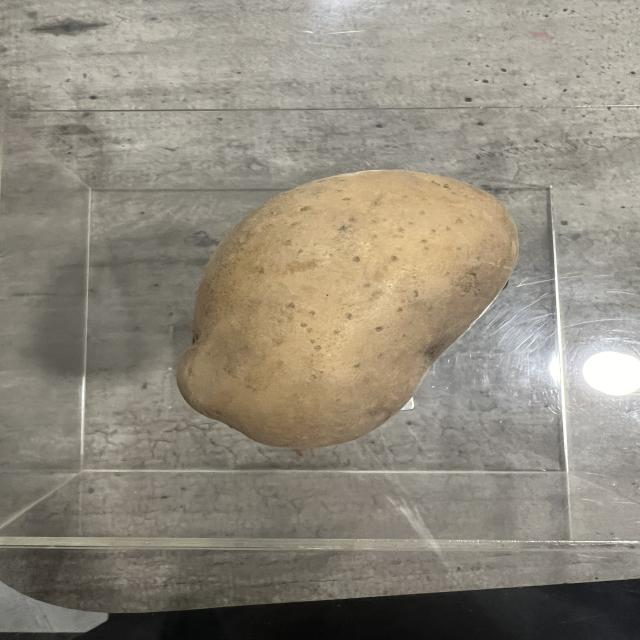potato: (170, 174, 522, 444)
